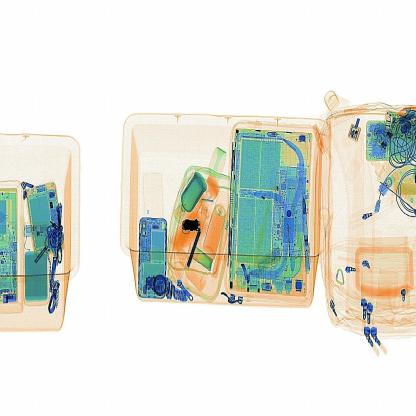scissors: (175, 216, 202, 240)
